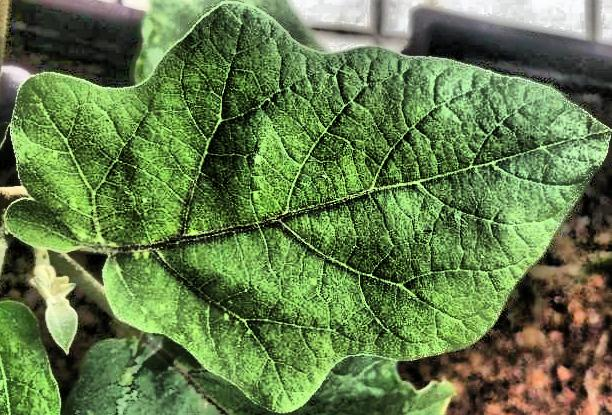HEALTHY: (1, 1, 612, 415)
